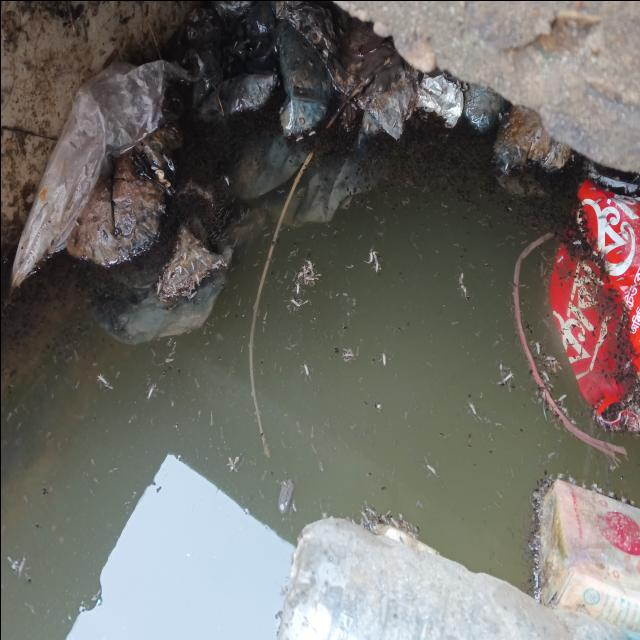Breeding Place: (0, 98, 640, 640)
